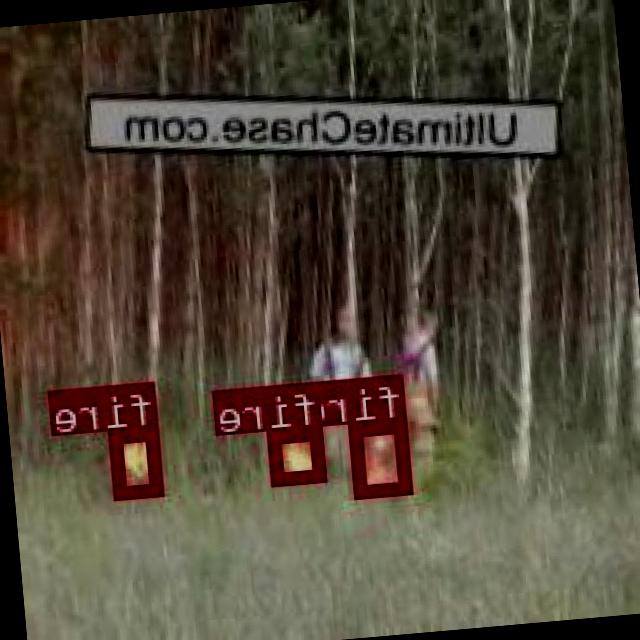fire: (351, 416, 414, 496), (112, 424, 166, 497), (270, 424, 329, 482)
